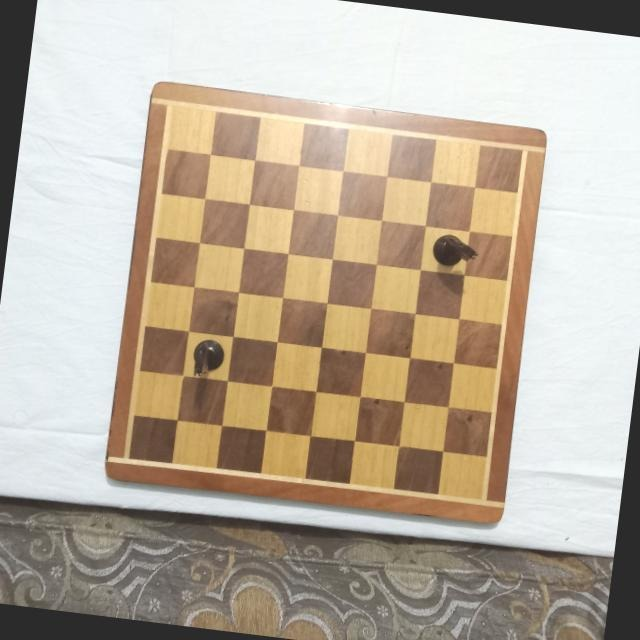black-knight: (428, 232, 480, 270), (188, 335, 228, 381)
